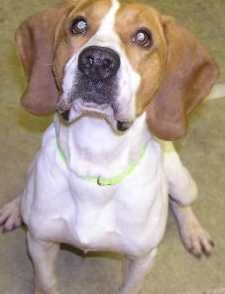Dog: (17, 0, 194, 265)
